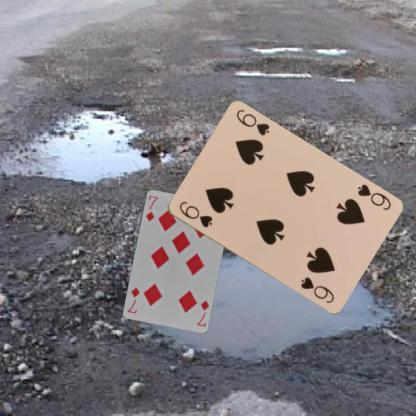6s: (176, 198, 214, 230), (354, 182, 392, 212)
7d: (143, 192, 159, 223), (194, 298, 210, 328)
